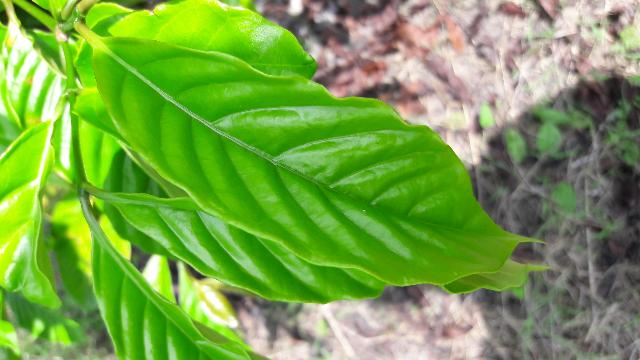healthy: (98, 40, 516, 278)
